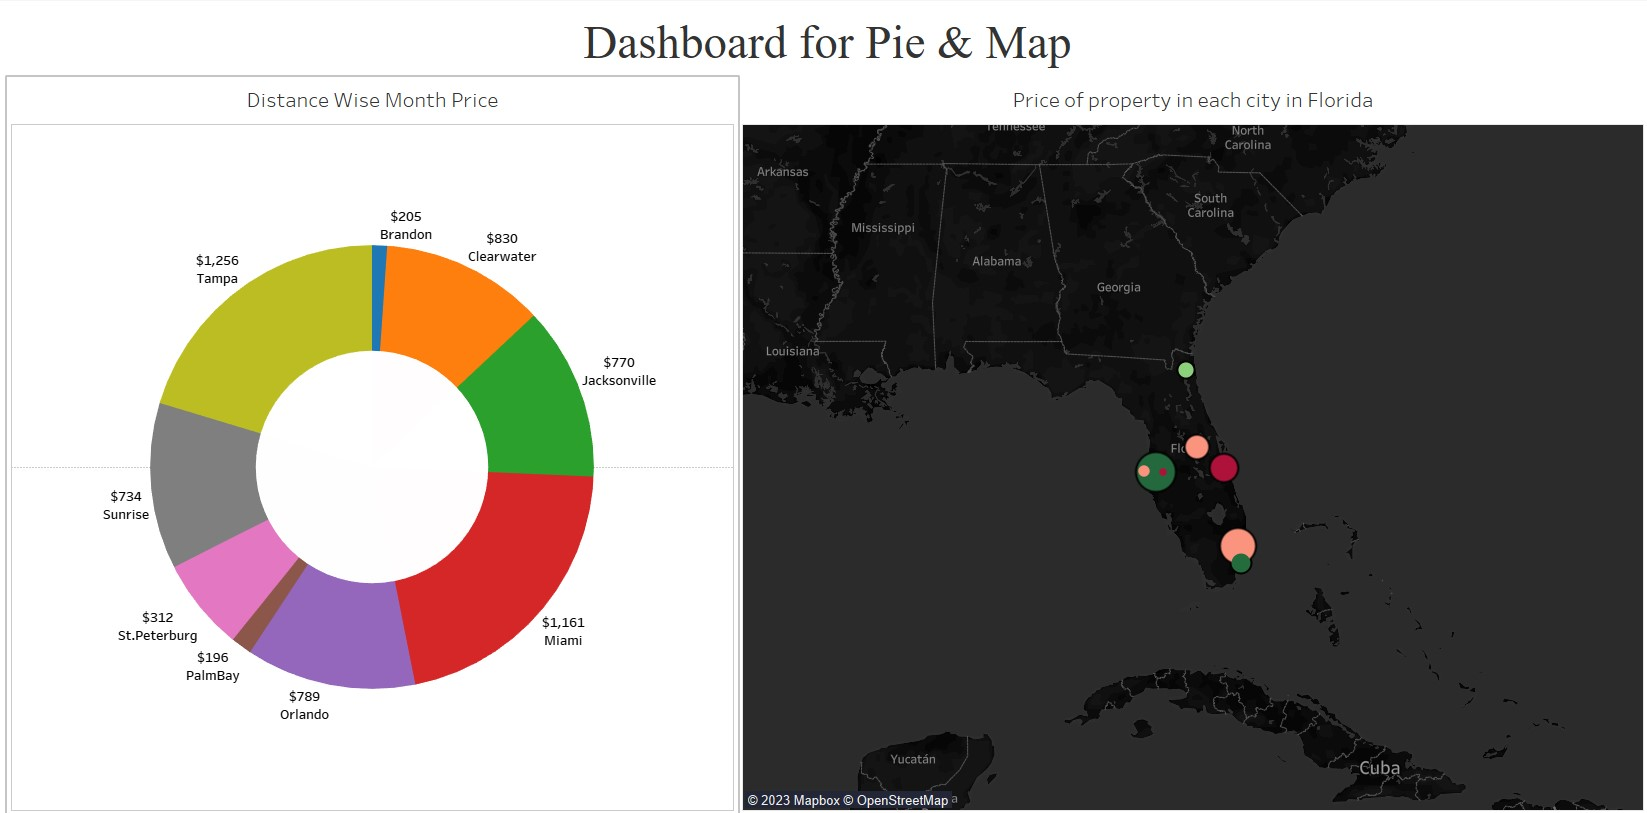

What the dashboard file says about the page in this screenshot:
{"tool":"tableau","page":{"name":"Dashboard 2","canvas":[1000,1000],"units":"permille","ordinal":1},"visuals":[{"type":"title","box":[4.8,9.4,990.3,79.9]},{"type":"worksheet","title":"Distance Wise Month Price","mark":"Pie","rows":["Calculation_719450097810345984","Calculation_719450097810345984"],"box":[4.8,89.3,441.1,866.7]},{"type":"worksheet","title":"Price of property in each city in Florida","mark":"Automatic","box":[446,89.3,549.2,866.7]}]}

Visuals, with their boxes on the dashboard's canvas, which has no fixed pixel size, in thousandths of its width and height (x1, y1, x2, y2). These are canvas units, not pixel positions in the 1647x813 screenshot, which may show the page scaled, cropped or inside an application window:
title: x1=5, y1=9, x2=995, y2=89
"Distance Wise Month Price" worksheet (Pie marks): x1=5, y1=89, x2=446, y2=956
"Price of property in each city in Florida" worksheet: x1=446, y1=89, x2=995, y2=956
